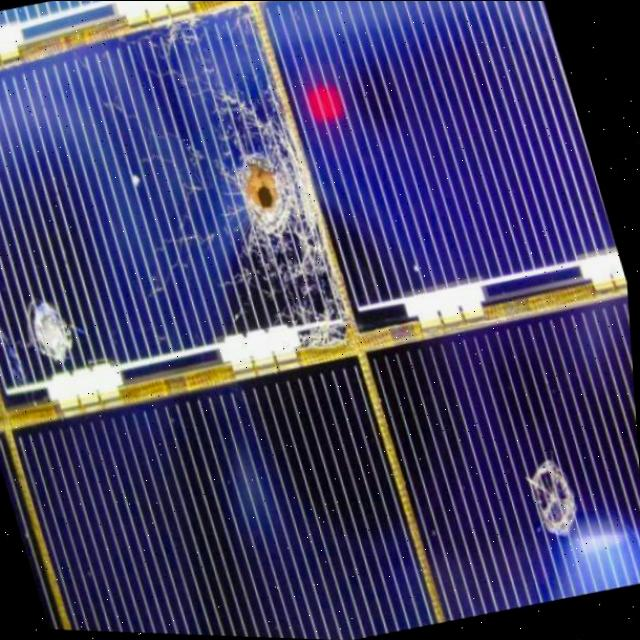Structural Damage: (219, 89, 338, 325), (530, 459, 585, 535), (243, 152, 295, 231), (26, 304, 85, 363)
